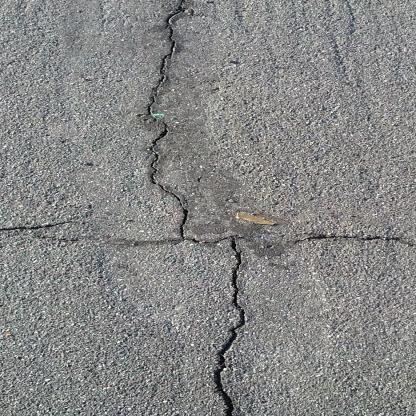Cracks: (147, 0, 200, 240), (213, 235, 249, 416), (292, 231, 416, 257)
